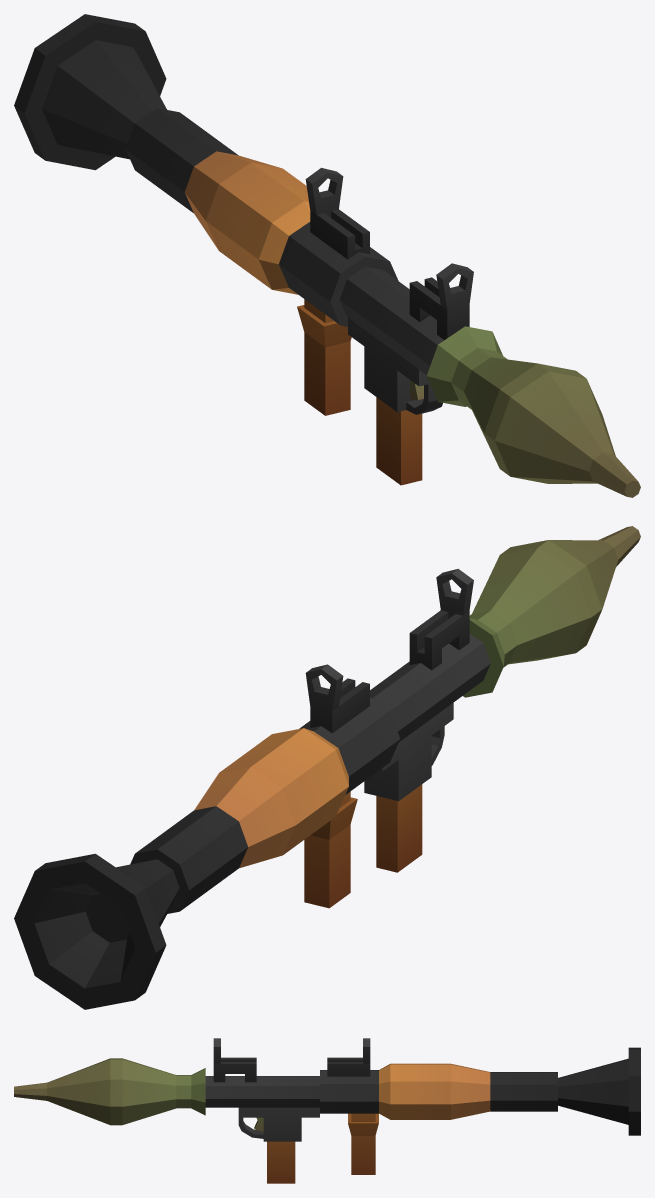
Rendered from Rocket Launcher.obj.
3 renders of one model, top to bottom at view 1: azimuth 30°, elevation 25°; view 2: azimuth 150°, elevation 25°; view 3: azimuth 270°, elevation 25°, orthographic. The views are drawn at different scales.
Parts seen in each view (by area): view 1: Cylinder_Cylinder.004, Cube_Cube.001, Cube.001_Cube.003, Cube.003_Cube.007, Cube.002_Cube.005; view 2: Cylinder_Cylinder.004, Cube_Cube.001, Cube.001_Cube.003, Cube.002_Cube.005, Cube.003_Cube.007; view 3: Cylinder_Cylinder.004, Cube_Cube.001, Cube.001_Cube.003, Cube.002_Cube.005, Cube.003_Cube.007.
Boxes of the visible parts, <box> form: Cylinder_Cylinder.004: <box>14,14,640,497</box>; Cube_Cube.001: <box>348,318,442,485</box>; Cube.001_Cube.003: <box>297,299,351,415</box>; Cube.003_Cube.007: <box>305,167,369,259</box>; Cube.002_Cube.005: <box>409,263,473,339</box>; Cylinder_Cylinder.004: <box>14,526,640,1009</box>; Cube_Cube.001: <box>364,703,453,872</box>; Cube.001_Cube.003: <box>304,791,357,908</box>; Cube.002_Cube.005: <box>409,568,473,670</box>; Cube.003_Cube.007: <box>305,664,369,733</box>; Cylinder_Cylinder.004: <box>14,1047,640,1135</box>; Cube_Cube.001: <box>238,1107,319,1183</box>; Cube.001_Cube.003: <box>348,1113,378,1174</box>; Cube.002_Cube.005: <box>213,1038,256,1082</box>; Cube.003_Cube.007: <box>327,1038,370,1076</box>.
Bounding box in the file's own units: 0.3854 × 0.6467 × 2.58.
